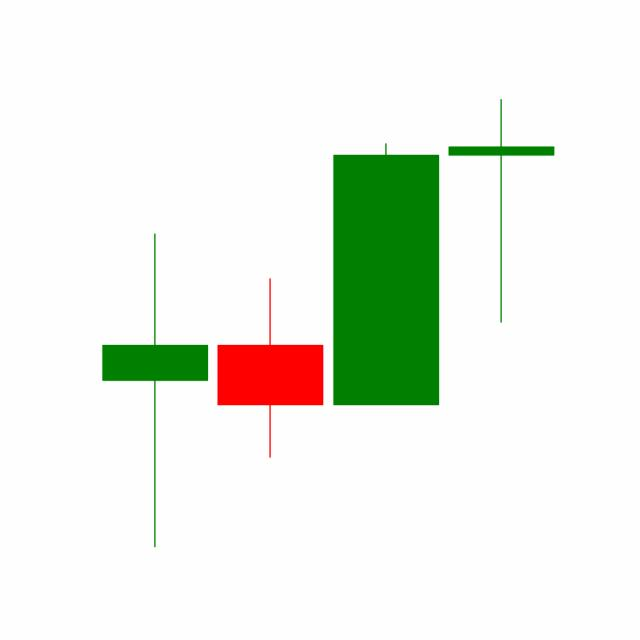Marubozu: (328, 140, 444, 408)
